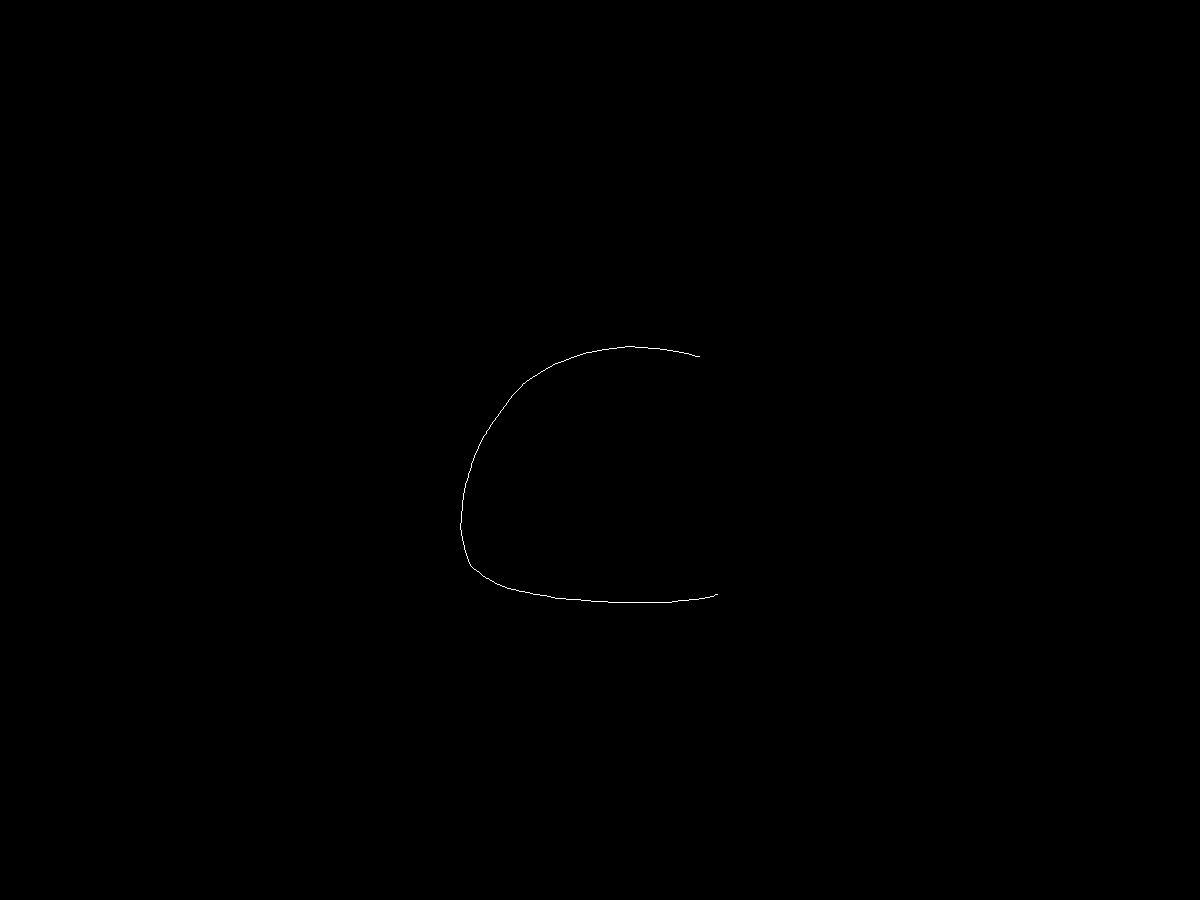dian1: (692, 344, 713, 363)
dian2: (711, 580, 744, 612)
